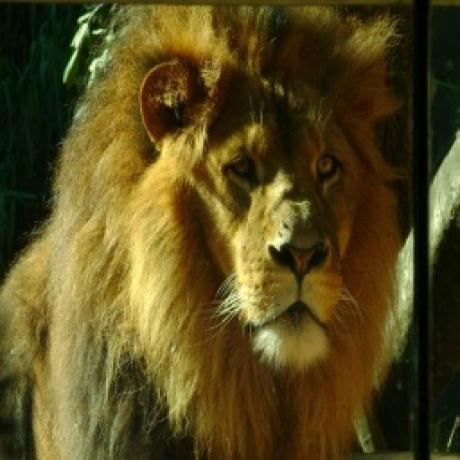Lion: (0, 0, 406, 460)
